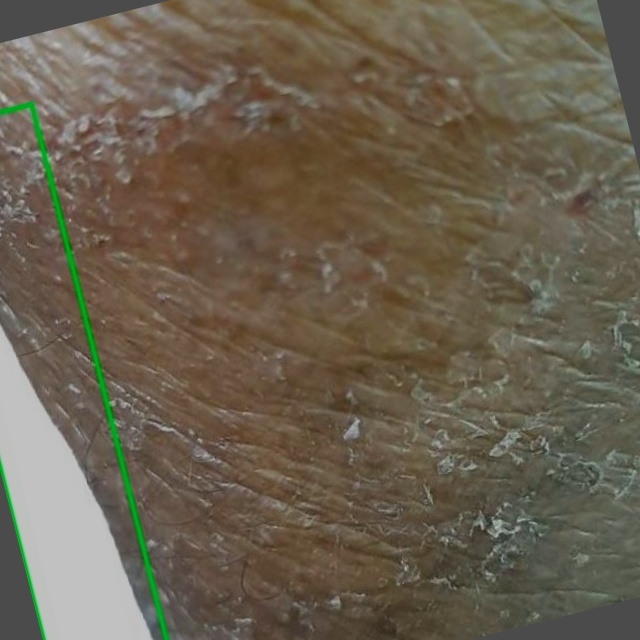Tinea Corporis: (0, 104, 166, 639)
